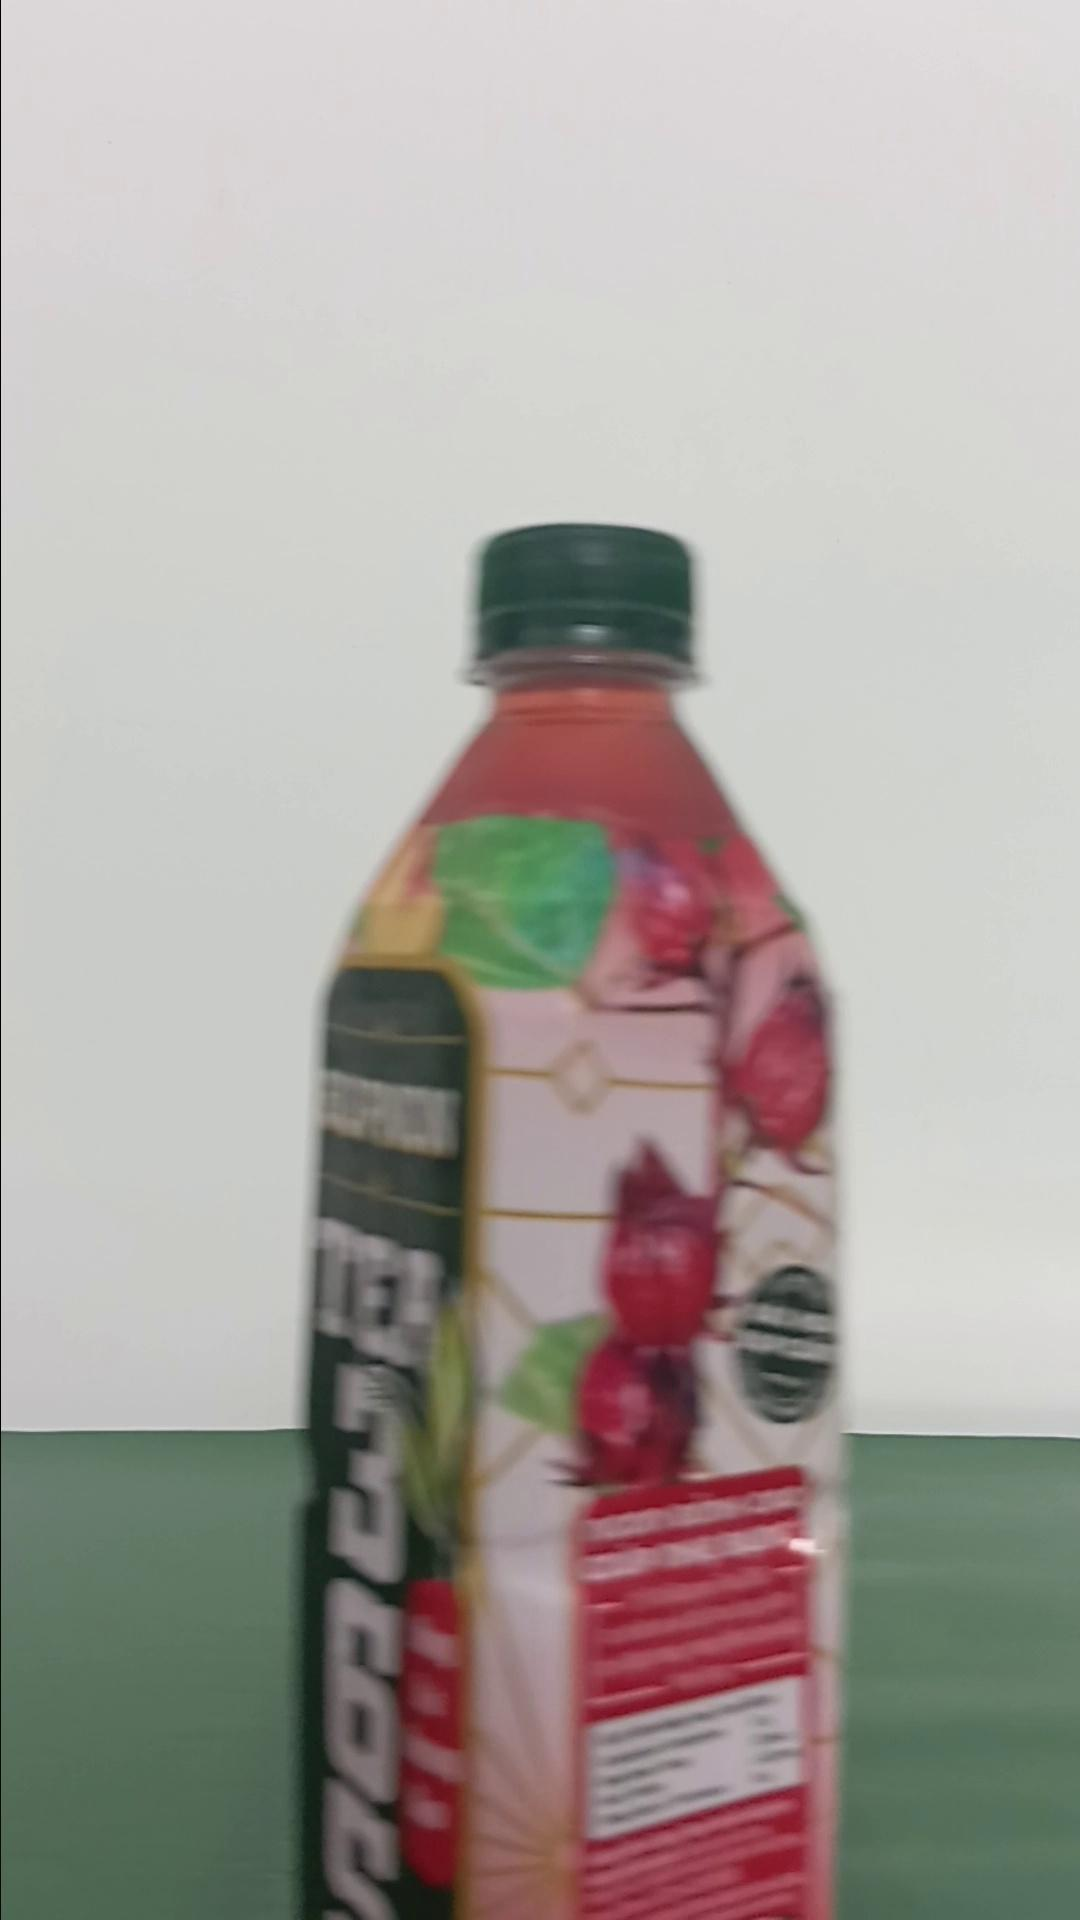khong loi: (295, 520, 847, 1915)
